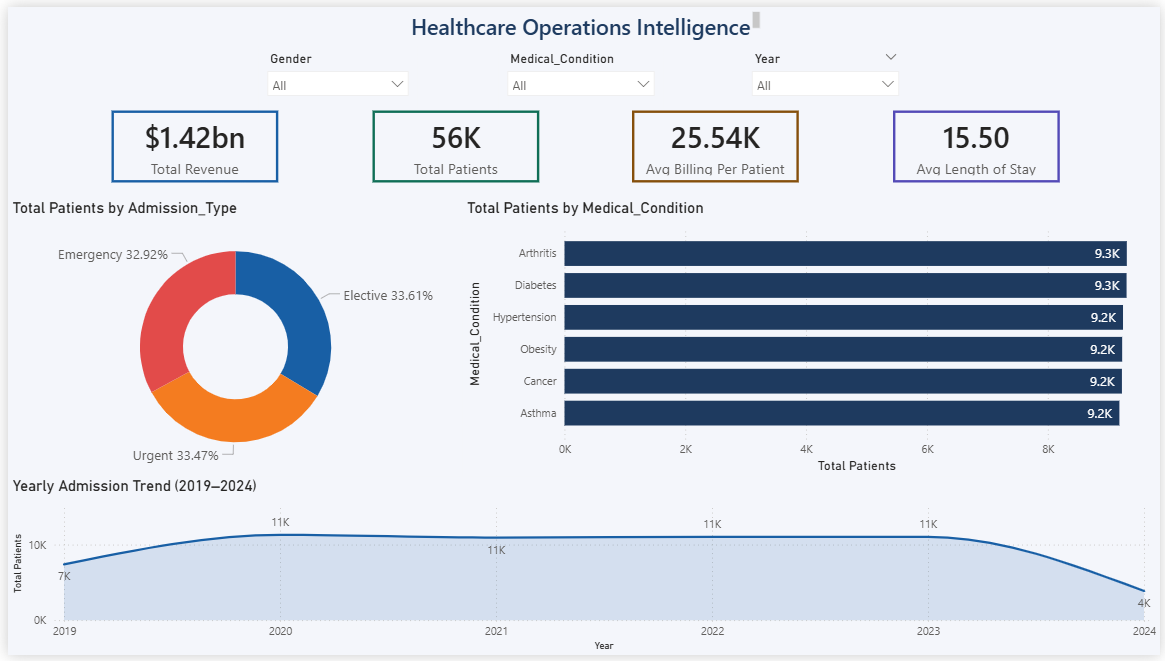

What the dashboard file says about the page in this screenshot:
{"tool":"powerbi","page":{"name":"executive_overview","canvas":[1280,720],"ordinal":0},"visuals":[{"type":"donutChart","fields":{"Y":["healthcare_dataset.Total Patients"],"Category":["healthcare_dataset.Admission_Type"]},"box":[0,213.3,505,308.3],"z":0},{"type":"barChart","fields":{"Y":["healthcare_dataset.Total Patients"],"Category":["healthcare_dataset.Medical_Condition"]},"box":[505,213.3,775,308.3],"z":1000},{"type":"lineChart","title":"Yearly Admission Trend (2019–2024)","fields":{"Y":["healthcare_dataset.Total Patients"],"Category":["DateTable.Year"]},"box":[0,521.7,1280,198.3],"z":2000},{"type":"textbox","box":[440,0,400,45],"z":3000},{"type":"card","fields":{"Values":["healthcare_dataset.Total Revenue"]},"box":[115,115,185,80],"z":4000},{"type":"card","fields":{"Values":["healthcare_dataset.Total Patients"]},"box":[404.4,115.3,185,80],"z":5000},{"type":"card","fields":{"Values":["healthcare_dataset.Avg Billing Per Patient"]},"box":[693.3,115,185,80],"z":6000},{"type":"card","fields":{"Values":["healthcare_dataset.Avg Length of Stay"]},"box":[983.3,115,185,80],"z":7000},{"type":"slicer","fields":{"Values":["healthcare_dataset.Gender"]},"box":[278.3,43.3,176.7,70],"z":8000},{"type":"slicer","fields":{"Values":["healthcare_dataset.Medical_Condition"]},"box":[544.2,43.3,183.3,70],"z":9000},{"type":"slicer","fields":{"Values":["DateTable.Year"]},"box":[816.7,43.3,183.3,70],"z":10000},{"type":"qnaVisual","box":[0,0,278.3,150],"z":10001}]}

Visuals, with their boxes in screenshot pixels (x1, y1, x2, y2), scaled from the page's 1280x720 canvas onto the 1165x661 screenshot:
donutChart - healthcare_dataset.Total Patients x healthcare_dataset.Admission_Type: region(0, 196, 460, 479)
barChart - healthcare_dataset.Total Patients x healthcare_dataset.Medical_Condition: region(460, 196, 1164, 479)
"Yearly Admission Trend (2019–2024)" lineChart: region(0, 479, 1164, 660)
textbox: region(400, 0, 765, 41)
card - healthcare_dataset.Total Revenue: region(105, 106, 273, 179)
card - healthcare_dataset.Total Patients: region(368, 106, 536, 179)
card - healthcare_dataset.Avg Billing Per Patient: region(631, 106, 799, 179)
card - healthcare_dataset.Avg Length of Stay: region(895, 106, 1063, 179)
slicer - healthcare_dataset.Gender: region(253, 40, 414, 104)
slicer - healthcare_dataset.Medical_Condition: region(495, 40, 662, 104)
slicer - DateTable.Year: region(743, 40, 910, 104)
qnaVisual: region(0, 0, 253, 138)
